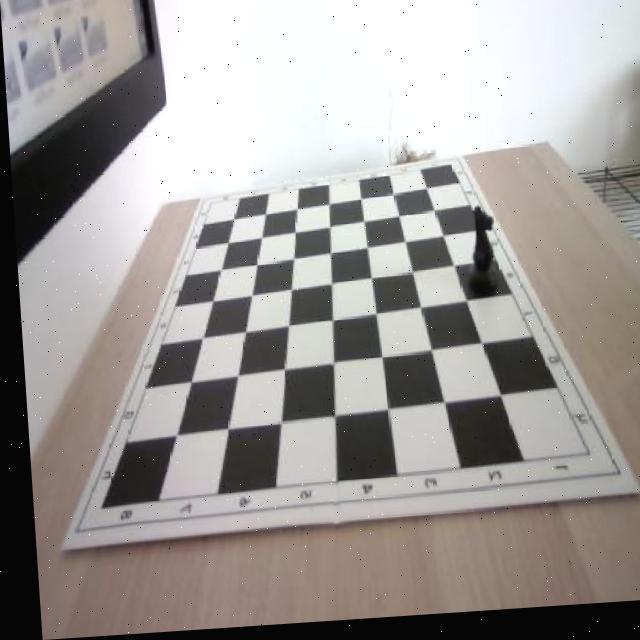black-king: (459, 212, 498, 302)
